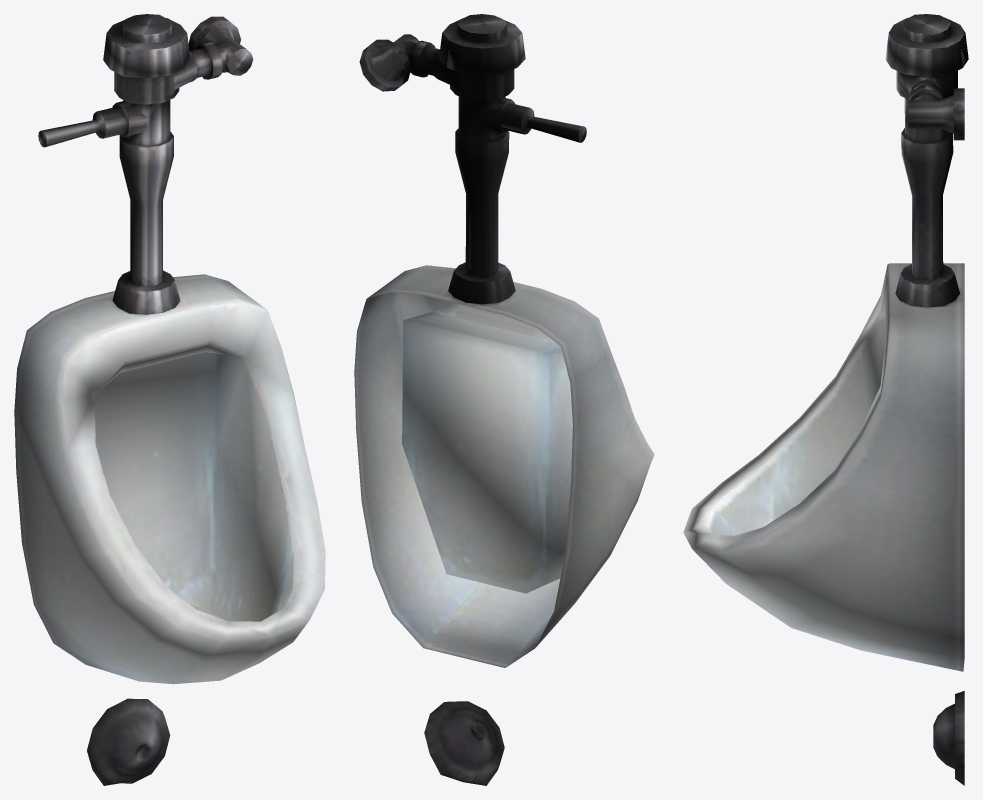
The model's file is urinal.obj.
3 views of the same model, side by side, from view 1: azimuth 30°, elevation 25°; view 2: azimuth 150°, elevation 25°; view 3: azimuth 270°, elevation 25° (orthographic). The views are drawn at different scales.
Visible parts, largest first — view 1: Model001_4_urinal_1_0_0, Model001_5_electric eye_1_0_0; view 2: Model001_4_urinal_1_0_0, Model001_5_electric eye_1_0_0; view 3: Model001_4_urinal_1_0_0, Model001_5_electric eye_1_0_0.
Boxes of the visible parts, x1=… form: Model001_4_urinal_1_0_0: x1=14, y1=14, x2=325, y2=684; Model001_5_electric eye_1_0_0: x1=87, y1=698, x2=170, y2=785; Model001_4_urinal_1_0_0: x1=354, y1=14, x2=654, y2=667; Model001_5_electric eye_1_0_0: x1=424, y1=701, x2=504, y2=785; Model001_4_urinal_1_0_0: x1=683, y1=14, x2=968, y2=671; Model001_5_electric eye_1_0_0: x1=933, y1=691, x2=964, y2=785.
Size of the model in its own units: 0.3223 by 1.05 by 0.3606.
